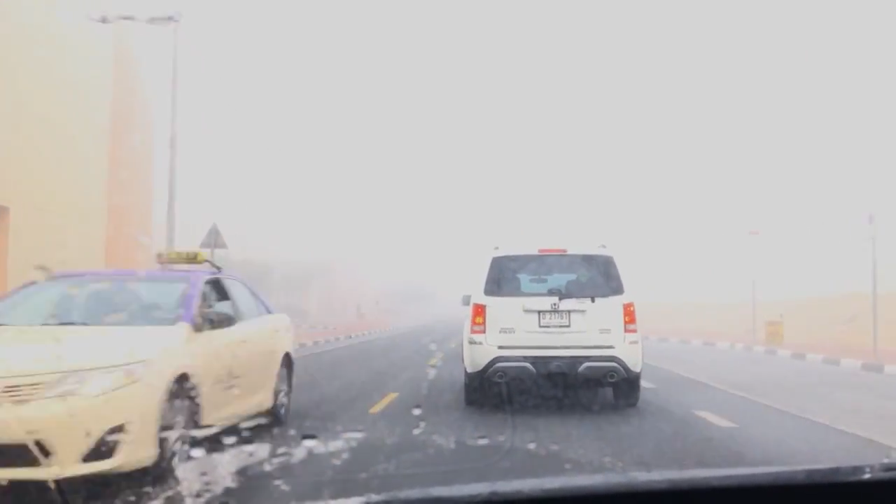car: (1, 247, 298, 487), (461, 242, 645, 410)
